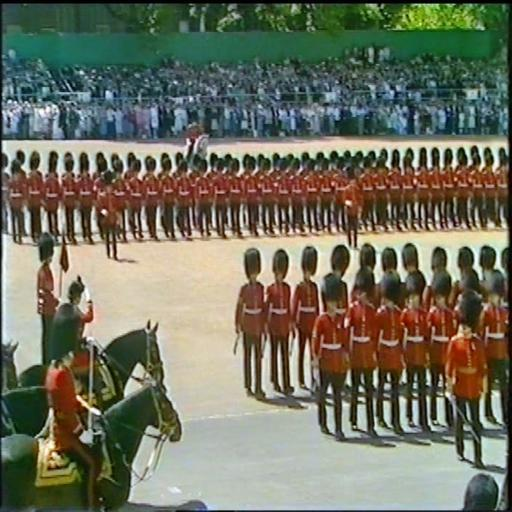horse: (0, 371, 182, 509), (0, 320, 164, 443)
